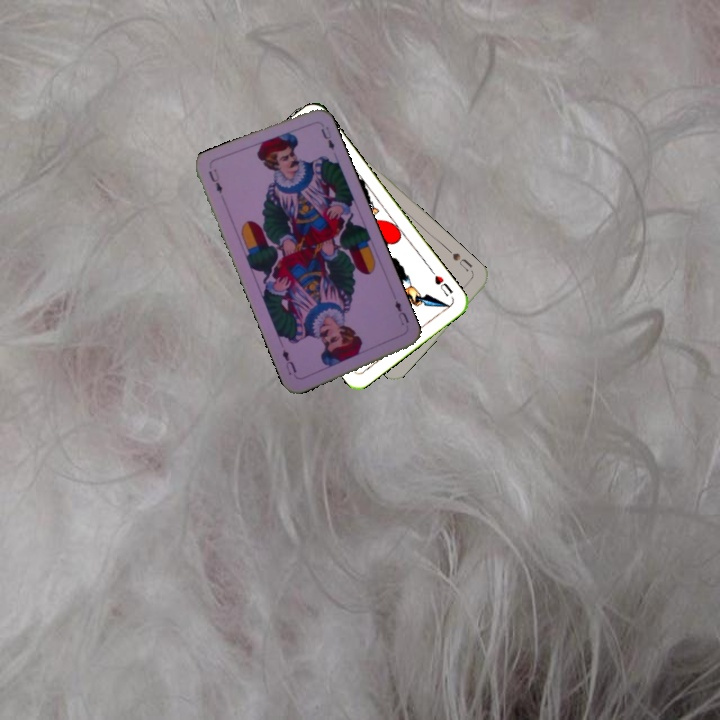EU: (390, 297, 412, 328), (204, 165, 225, 196)
HU: (427, 266, 456, 299)
SU: (448, 248, 476, 277)
